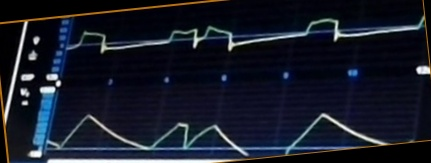Double_Triggering Flow: (72, 18, 426, 63)
Double_Triggering Volume: (57, 97, 404, 156)
